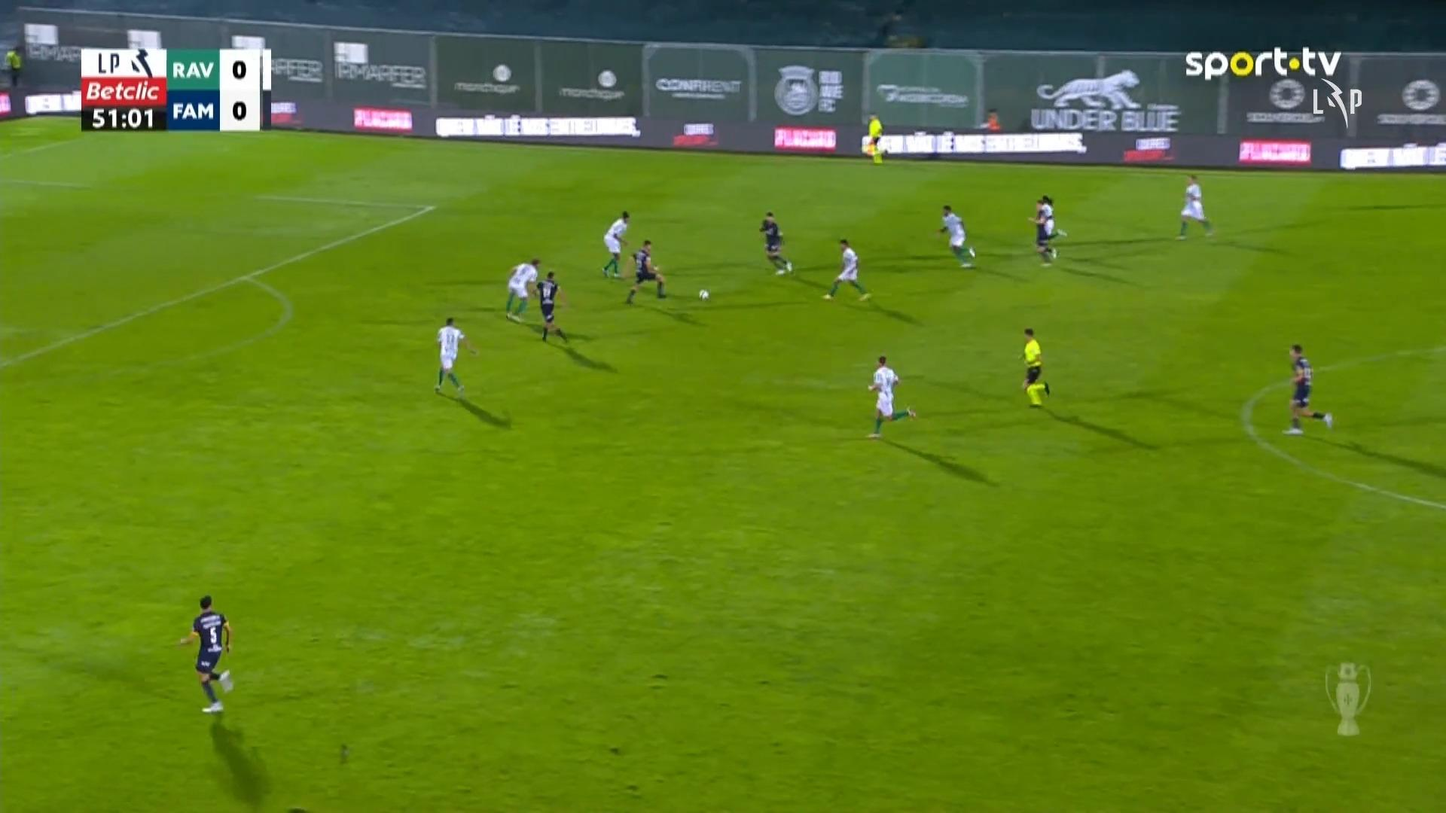ball: (699, 289, 708, 300)
player: (178, 594, 235, 713), (1282, 343, 1333, 434), (865, 354, 917, 439), (433, 315, 477, 396), (822, 237, 871, 301), (625, 239, 667, 304), (1175, 173, 1214, 239), (937, 204, 976, 269), (535, 269, 569, 343), (1027, 194, 1060, 266), (504, 257, 540, 322), (758, 211, 793, 276), (601, 210, 630, 279)
referee: (1019, 327, 1050, 407), (866, 112, 883, 164), (5, 47, 22, 87)
